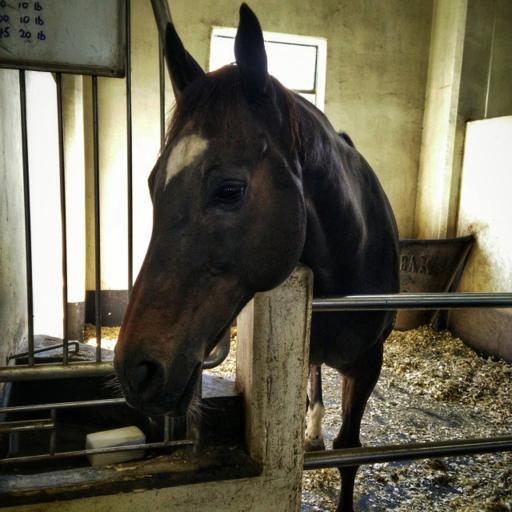horse: (110, 0, 404, 512)
